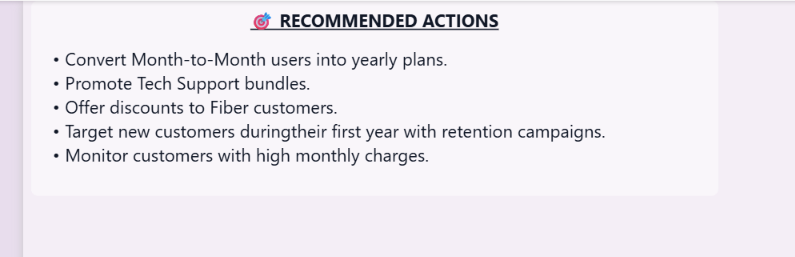

This screenshot's page, from the dashboard's own definition file:
{"tool":"powerbi","page":{"name":"recommendetions","canvas":[1280,720],"ordinal":1},"visuals":[{"type":"textbox","box":[9.7,0,828.8,235.3],"z":0}]}

Visuals, with their boxes on the page's 1280x720 design canvas (x1, y1, x2, y2). These are canvas units, not pixel positions in the 795x257 screenshot, which may show the page scaled, cropped or inside an application window:
textbox: box(10, 0, 838, 235)
